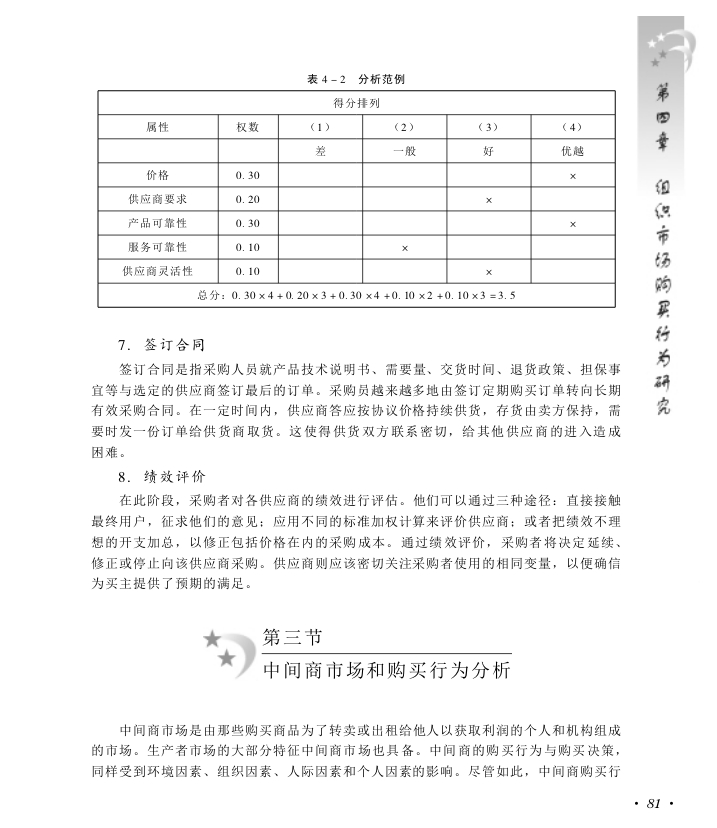table: (97, 89, 616, 308)
